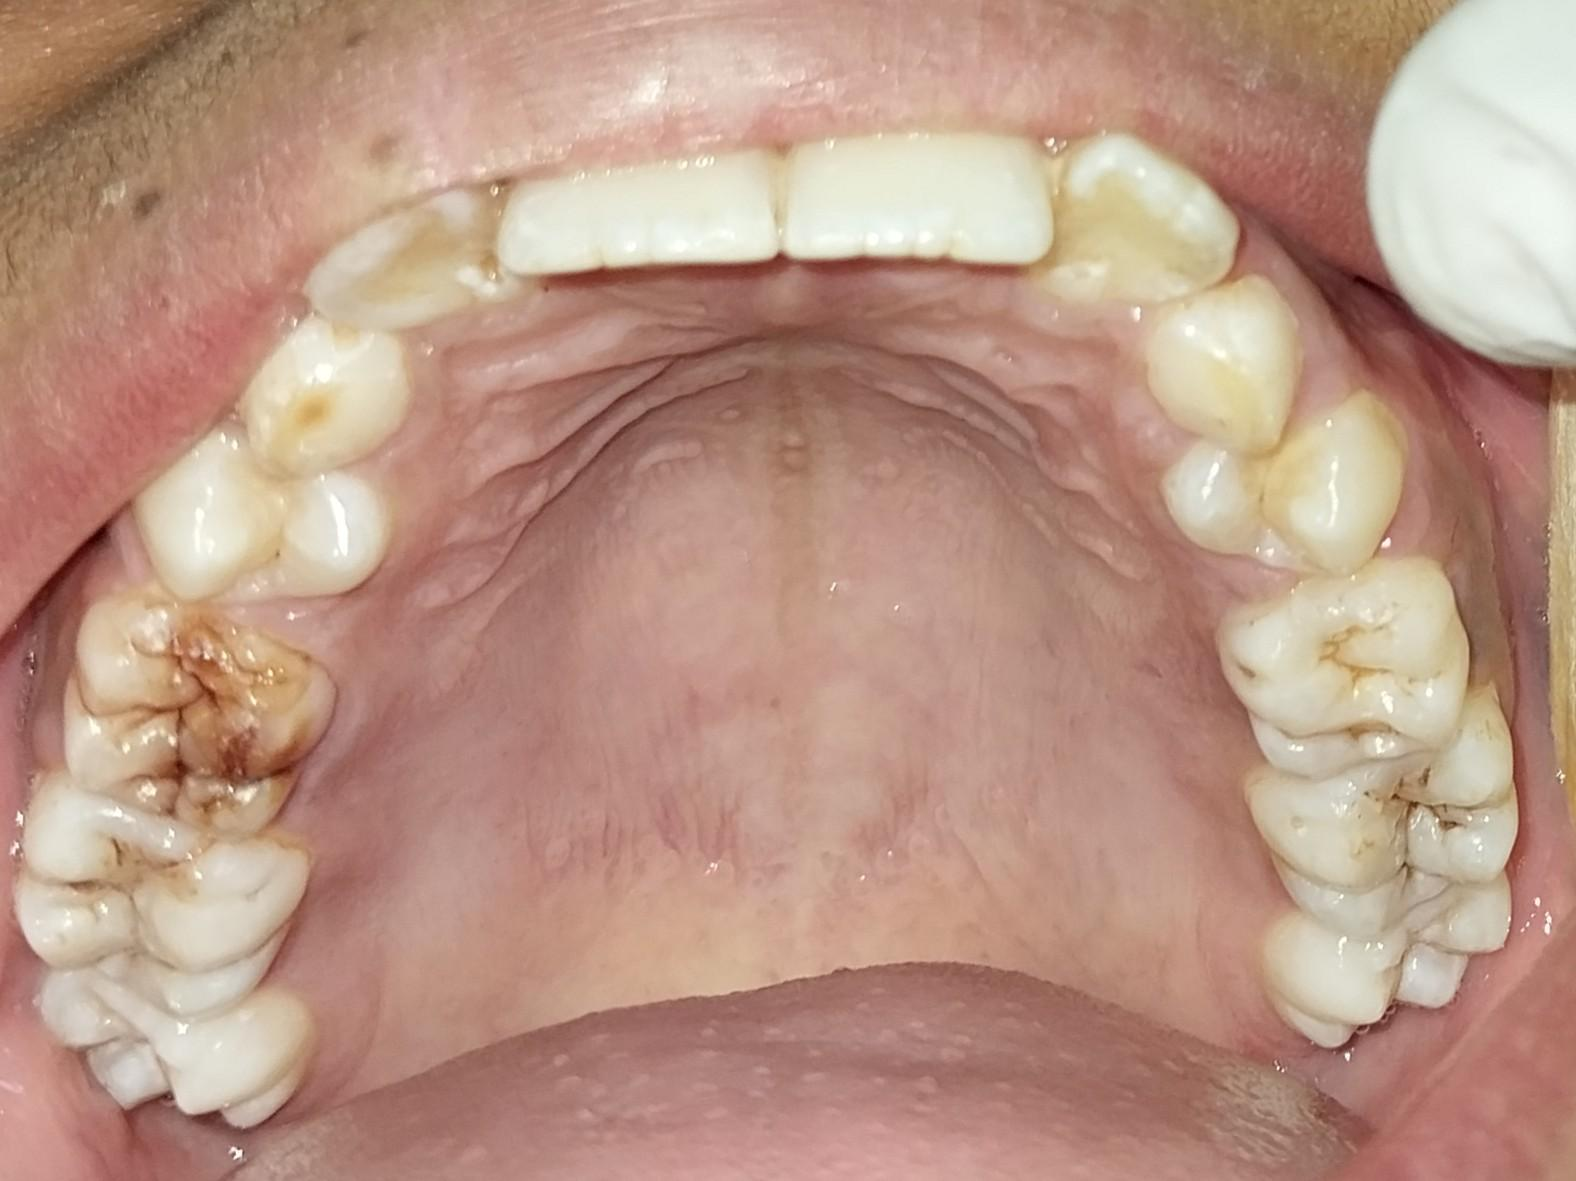D: (16, 770, 313, 1019), (1248, 686, 1535, 932), (57, 588, 338, 836)
